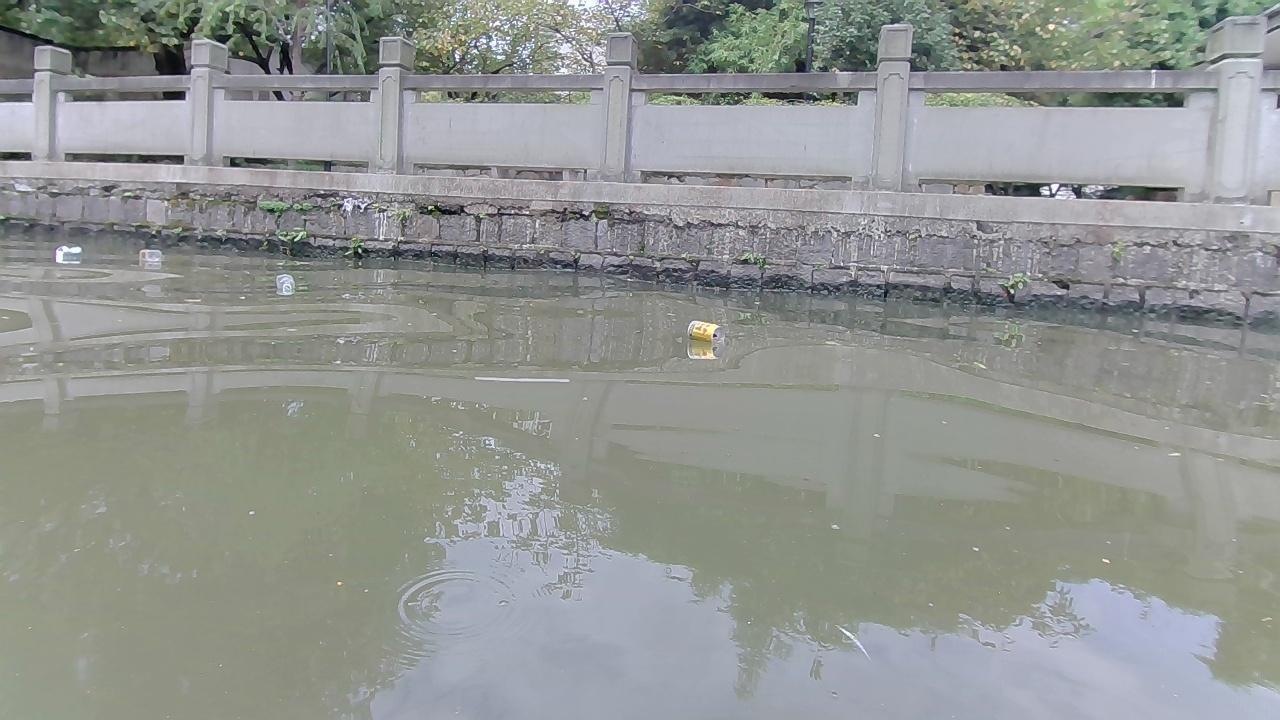bottle: (686, 319, 724, 342), (275, 272, 294, 289), (137, 247, 160, 261), (54, 244, 83, 255)
